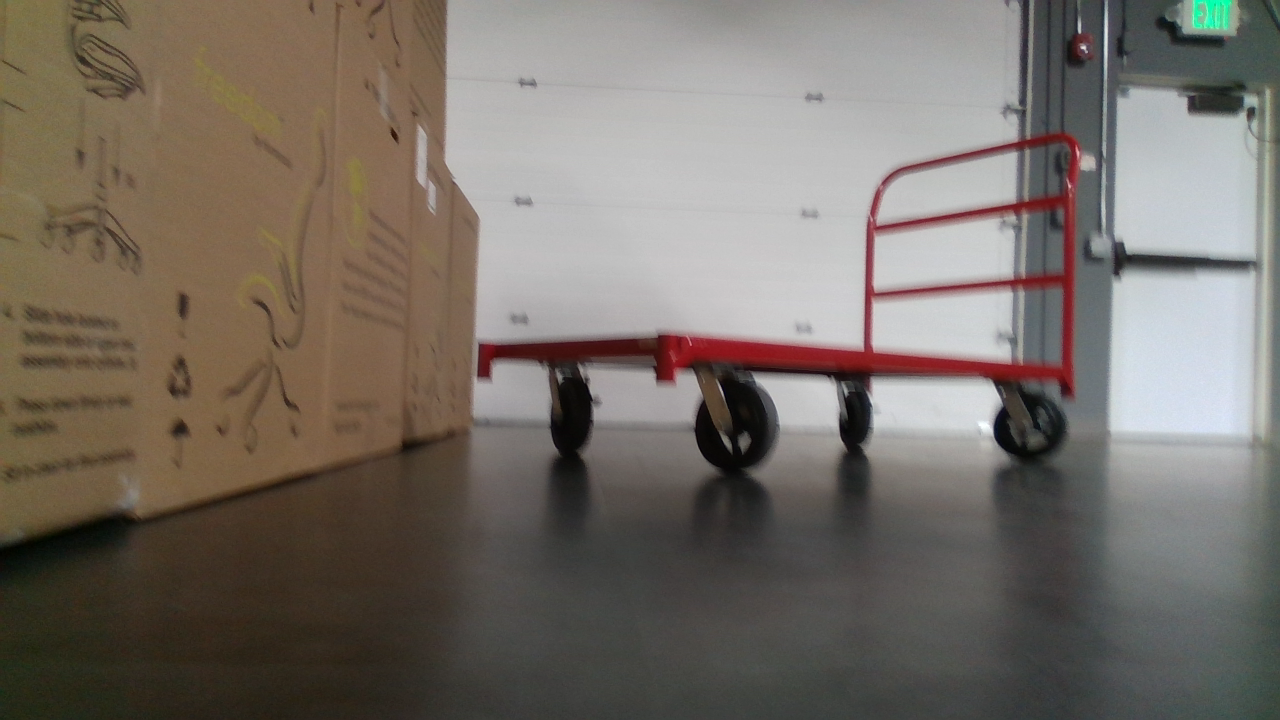Dolly: (462, 123, 1083, 482)
Wheel: (689, 377, 788, 480), (995, 391, 1076, 466), (548, 370, 606, 456), (833, 384, 878, 453)
